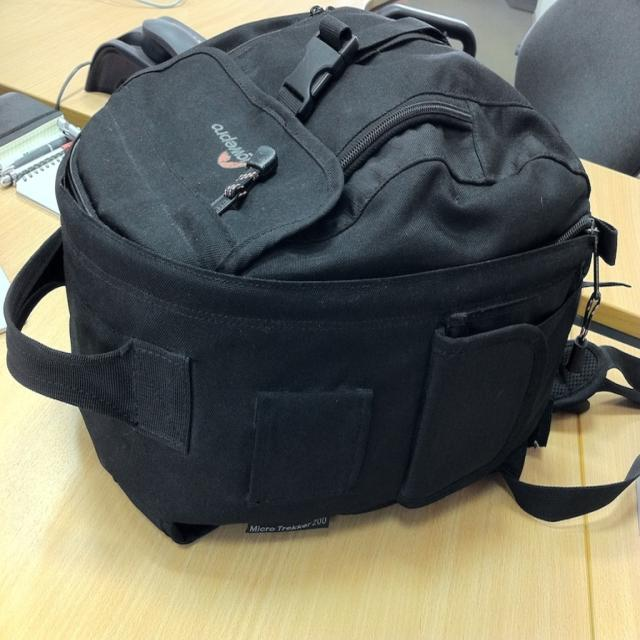backpack: (8, 8, 640, 530)
